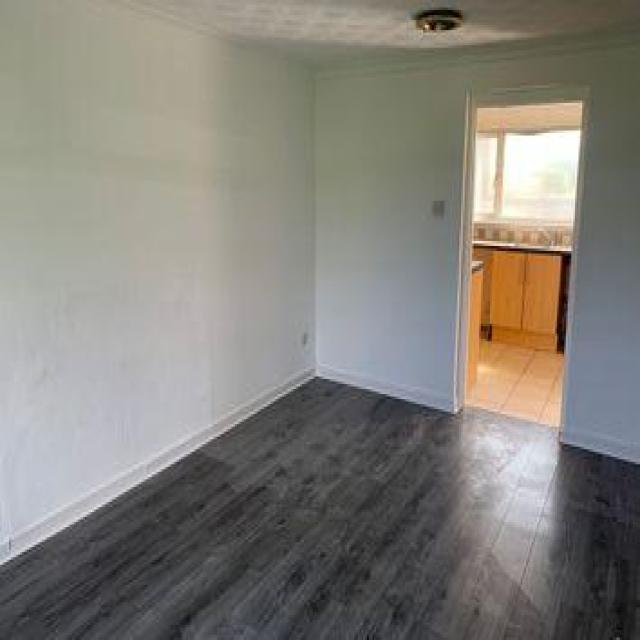Wall: (1, 2, 640, 561), (0, 378, 640, 639), (132, 0, 640, 55), (469, 343, 562, 426)
